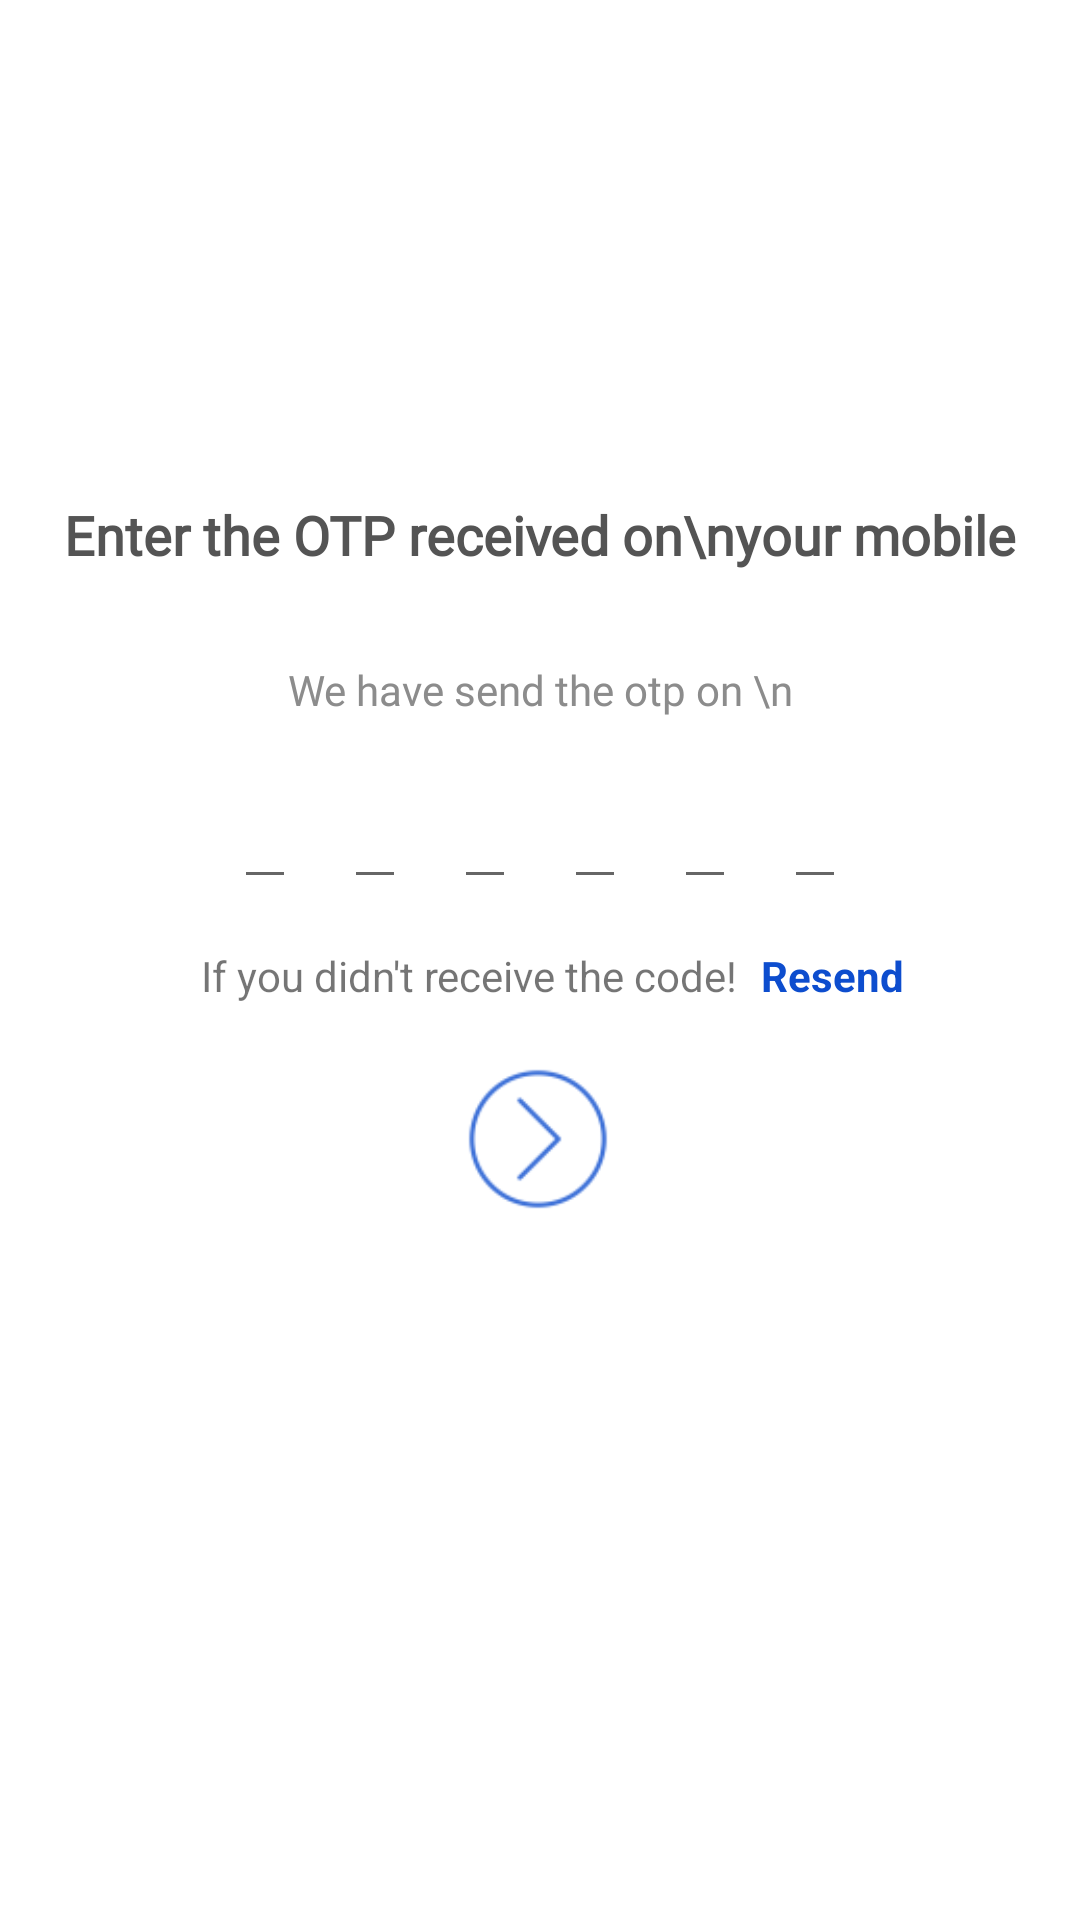

Locate icon controls on the screen. Image size 1080 × 1920, boxes as (x1, y1, x2, y2).
right arrow: (469, 1070, 607, 1208)
